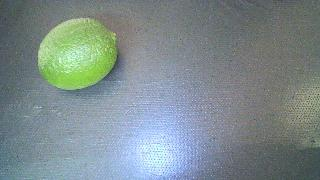EXPORTACION: (38, 18, 117, 90)
